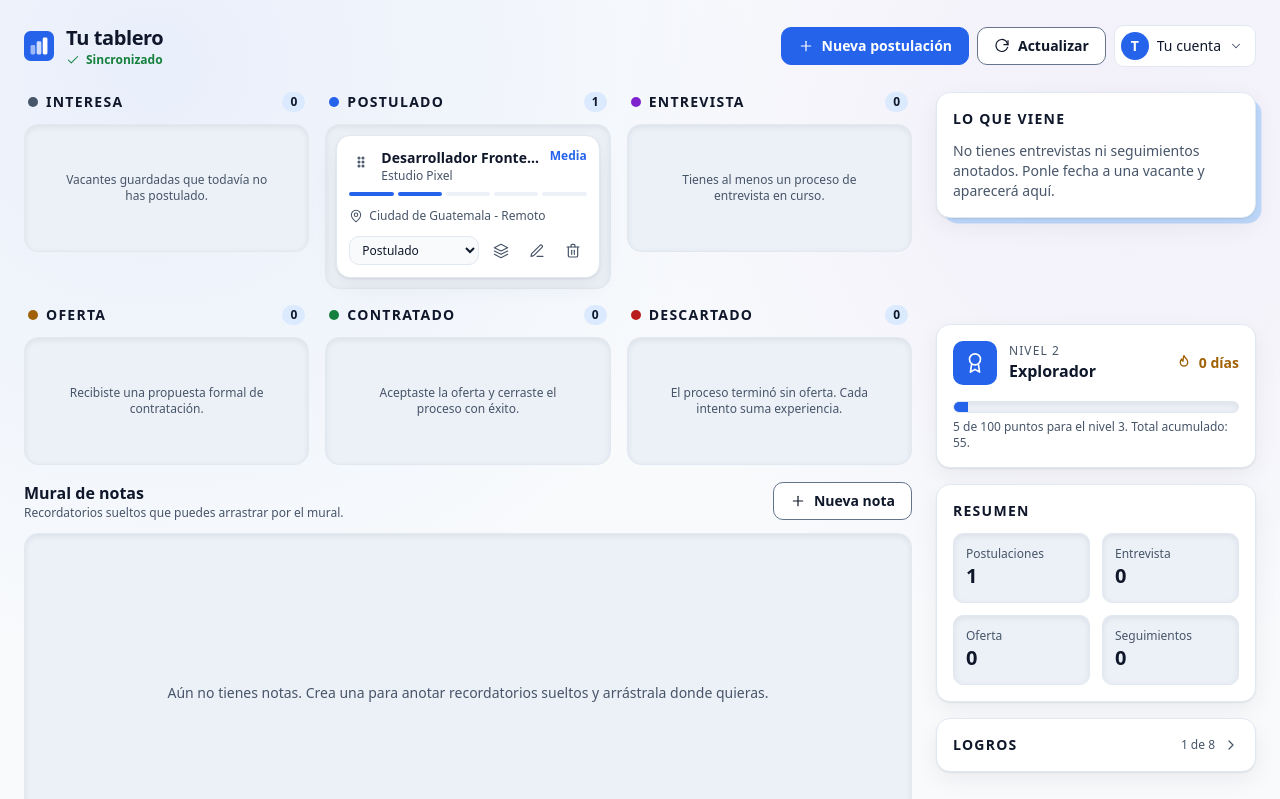
Test case: BoardWorkspace (integracion) › registra una nueva postulación y la muestra en su columna
Check: the heading "Desarrollador Frontend" is shown, box [381,148,542,168]
Click the button "Nueva postulación": (875, 46) [780,27,969,65]
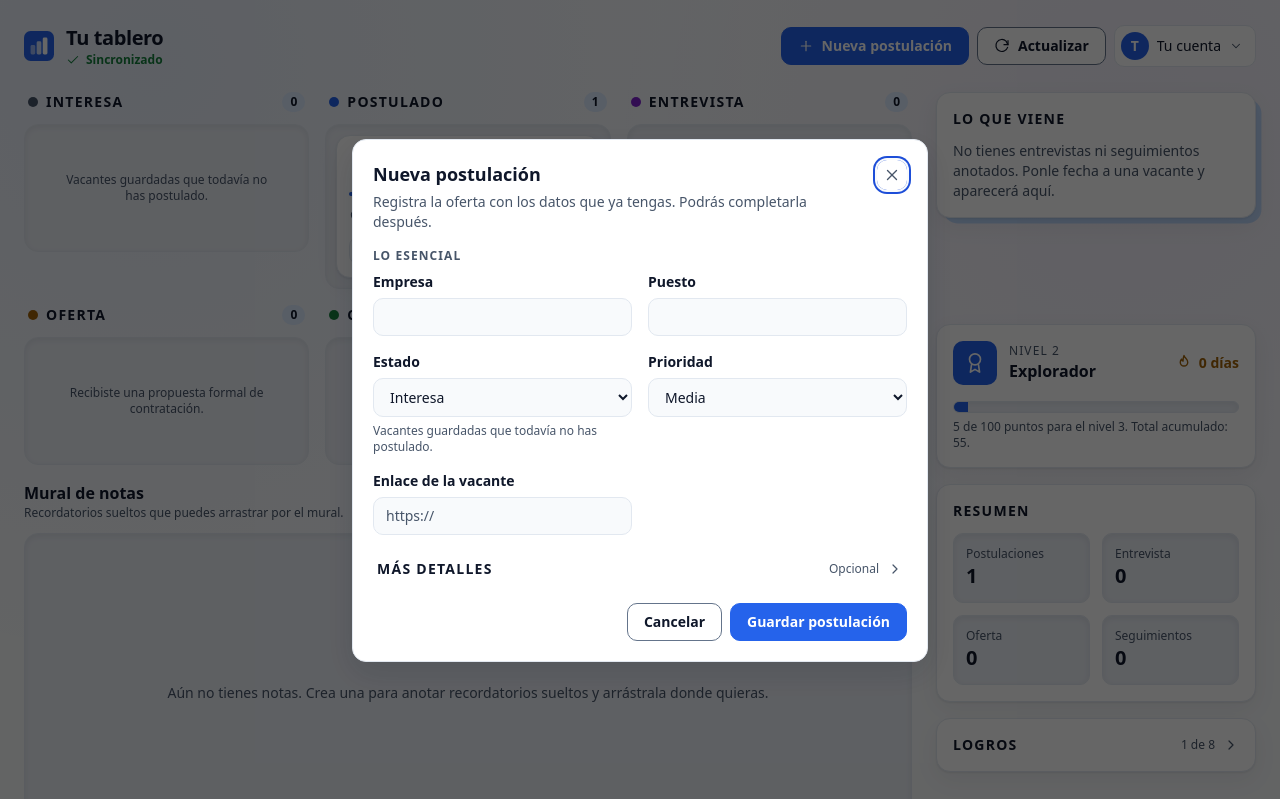
In the field labelled "Empresa": (502, 316) [373,298,632,336], type "Galaxy Labs"
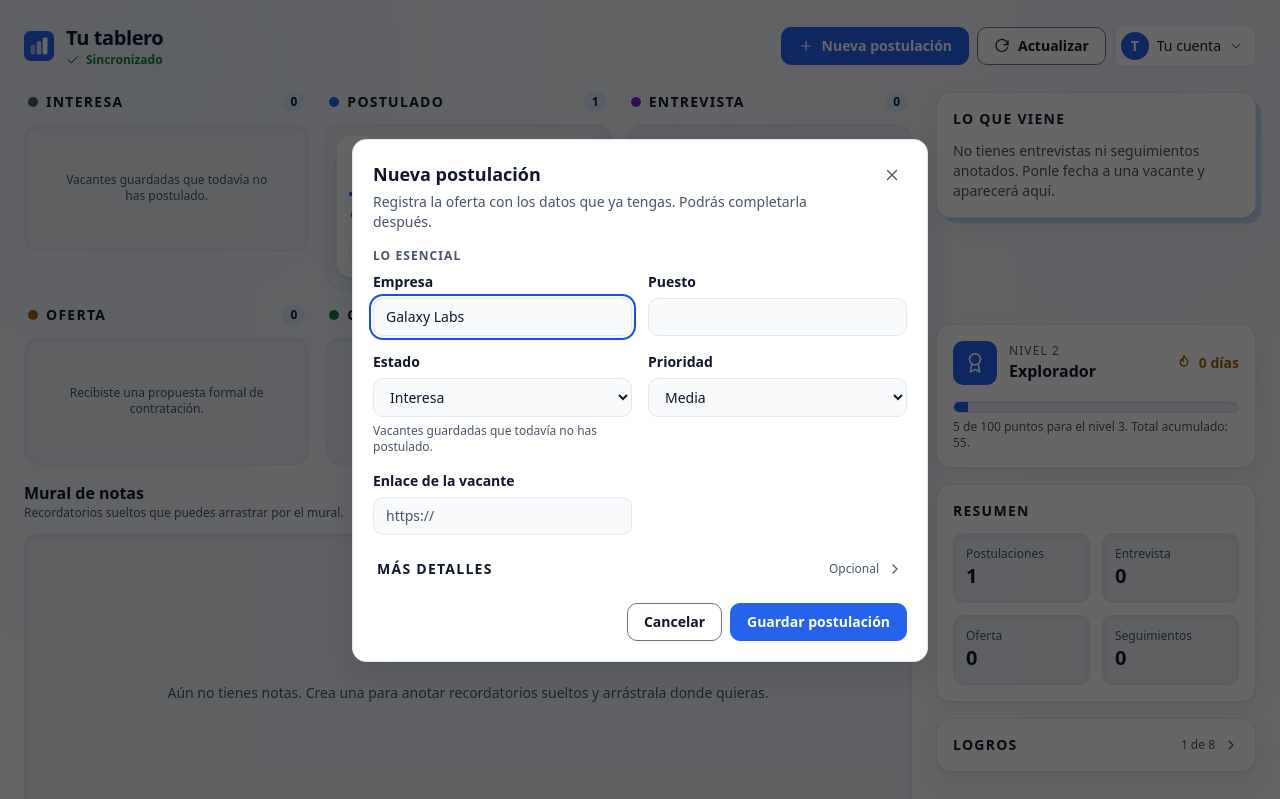
In the field labelled "Puesto": (778, 316) [648,298,907,336], type "Ingeniero de Datos"
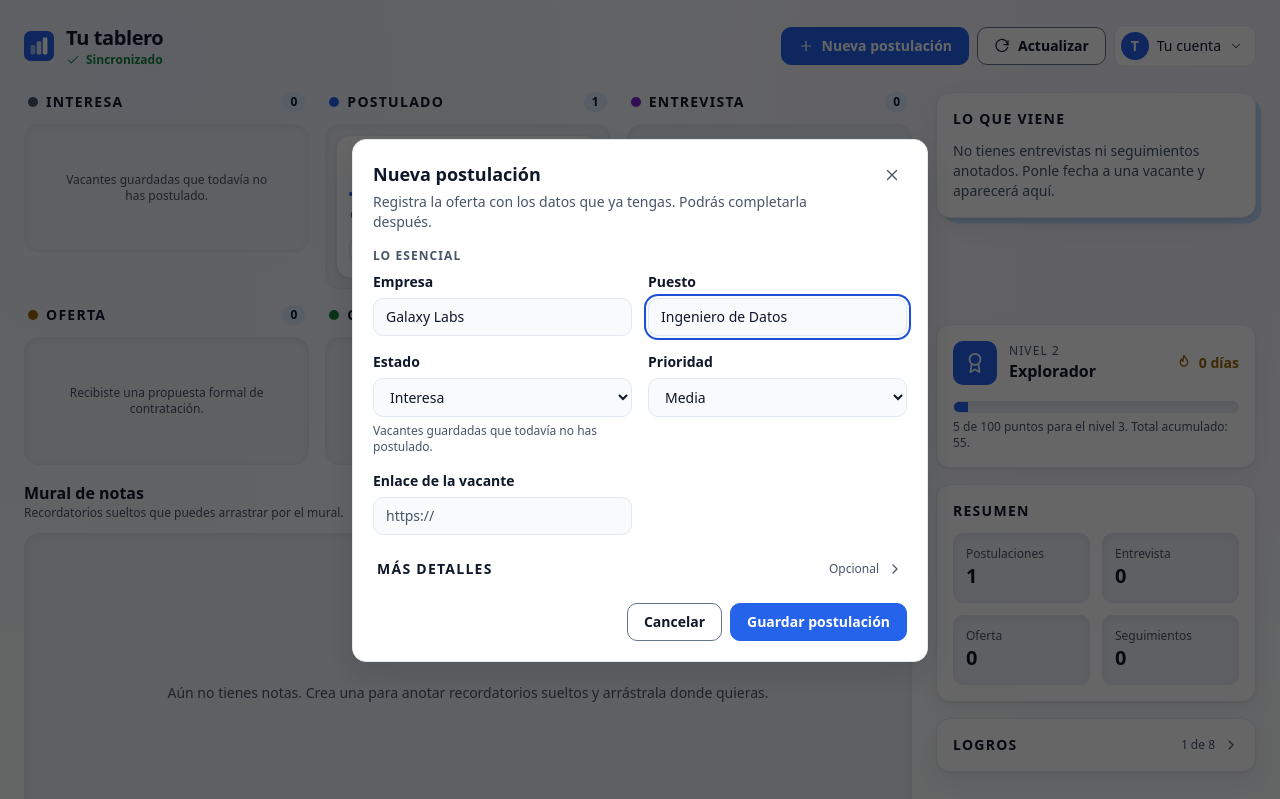
Click the button "Guardar postulación": (818, 622) [730,602,907,640]
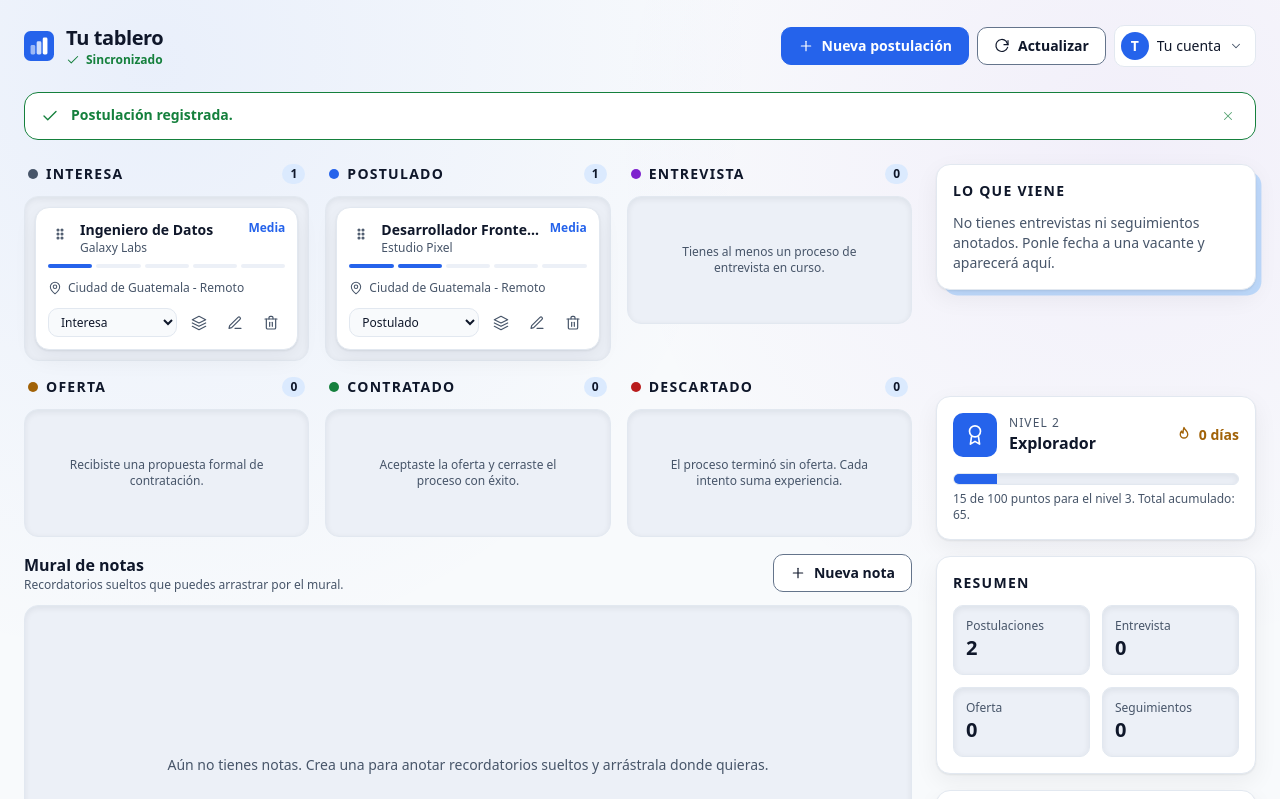
Check: the heading "Ingeniero de Datos" is shown, box [80,220,213,239]
